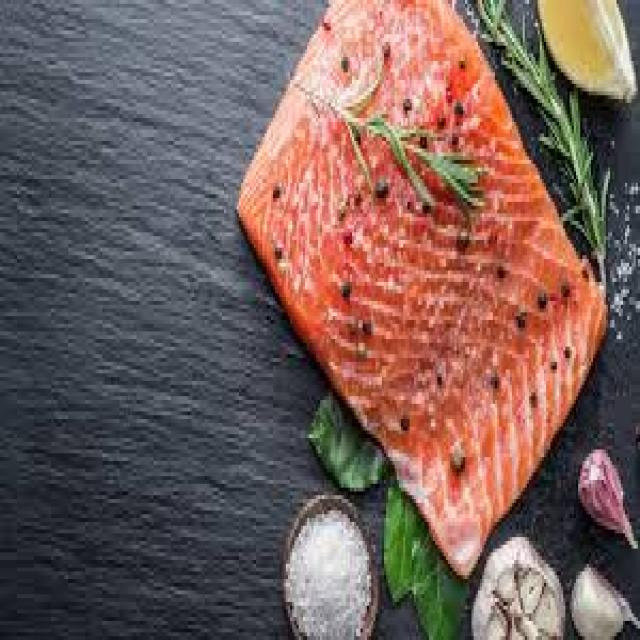Fish: (238, 5, 612, 559)
